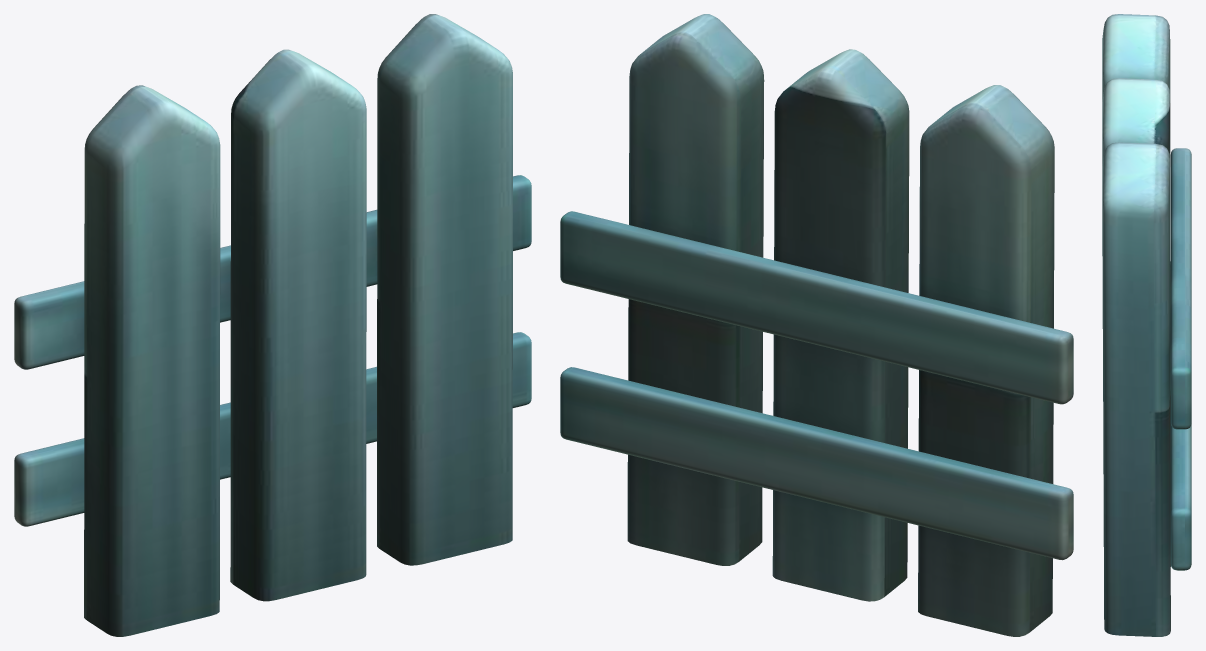
File: ZhaLan02.FBX
3 views of the same model, side by side, from view 1: azimuth 30°, elevation 25°; view 2: azimuth 150°, elevation 25°; view 3: azimuth 270°, elevation 25° (orthographic). The views are drawn at different scales.
Parts seen in each view (by area): view 1: ZhaLan02; view 2: ZhaLan02; view 3: ZhaLan02.
Part boxes in pixels (x1=…): ZhaLan02: x1=14, y1=14, x2=531, y2=636; ZhaLan02: x1=560, y1=14, x2=1073, y2=636; ZhaLan02: x1=1102, y1=14, x2=1191, y2=636.
Bounding box in the file's own units: 142 × 138 × 23.92.
